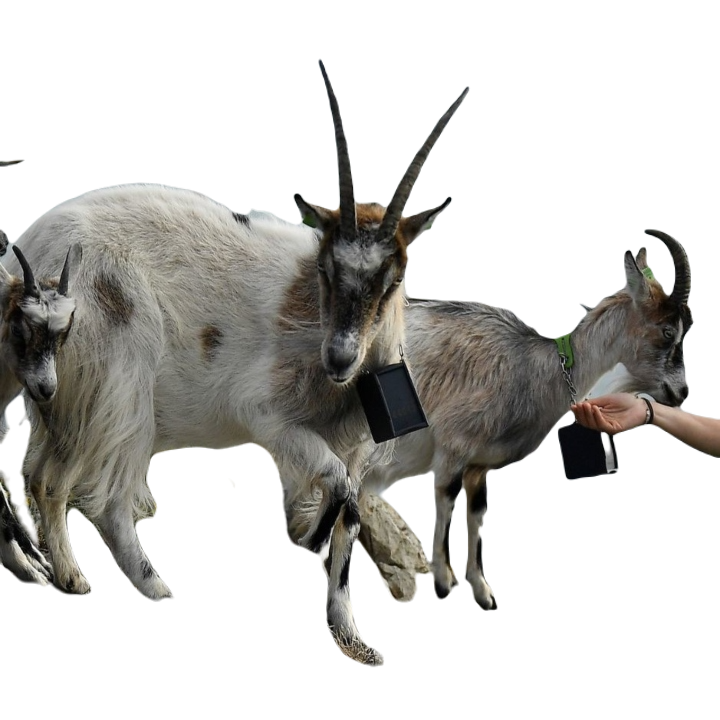Goat: (9, 62, 470, 667)
